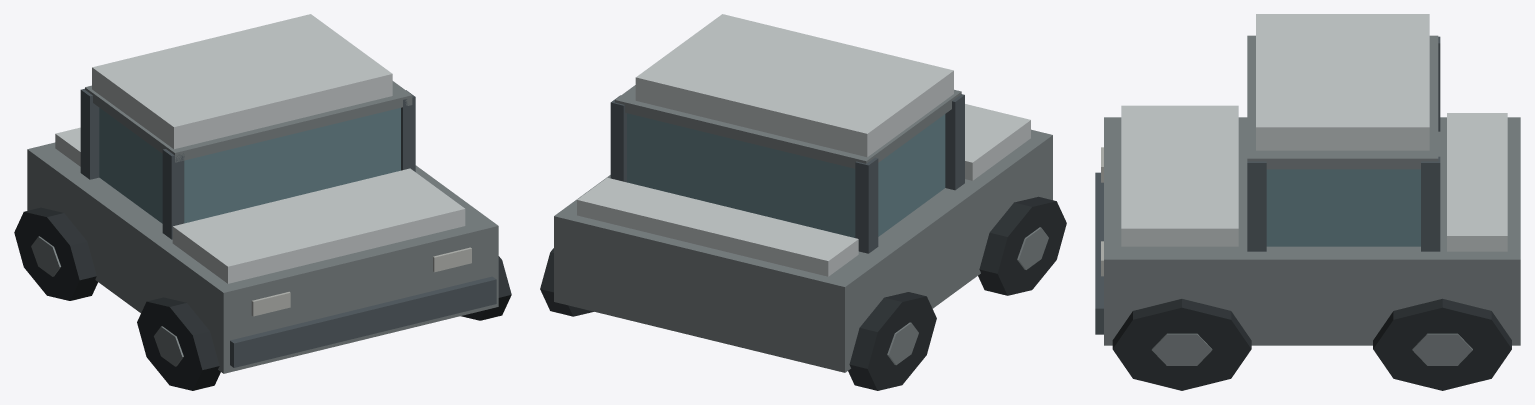
File: car.glb
The picture shows the model from 3 angles, left to right: view 1: azimuth 30°, elevation 25°; view 2: azimuth 150°, elevation 25°; view 3: azimuth 270°, elevation 25°; orthographic projection. The views are drawn at different scales.
Parts seen in each view (by area): view 1: car; view 2: car; view 3: car.
Part boxes in pixels (x1,y1,x2,y2): car: (14,14,511,390); car: (540,14,1066,390); car: (1095,14,1520,390).
Size of the model in its own units: 1.73 by 1.18 by 1.92.
